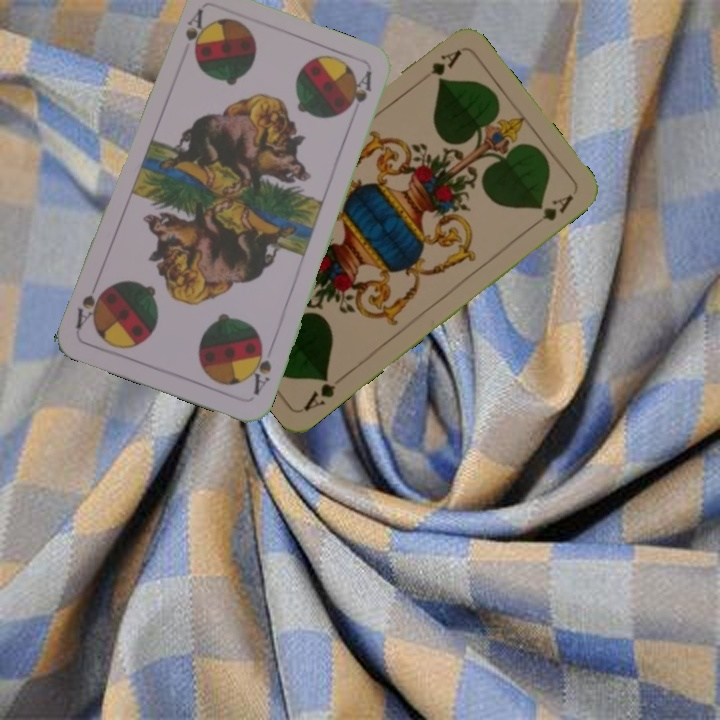GA: (300, 369, 349, 414), (427, 46, 464, 79)
SA: (244, 339, 274, 398), (181, 6, 206, 55)
